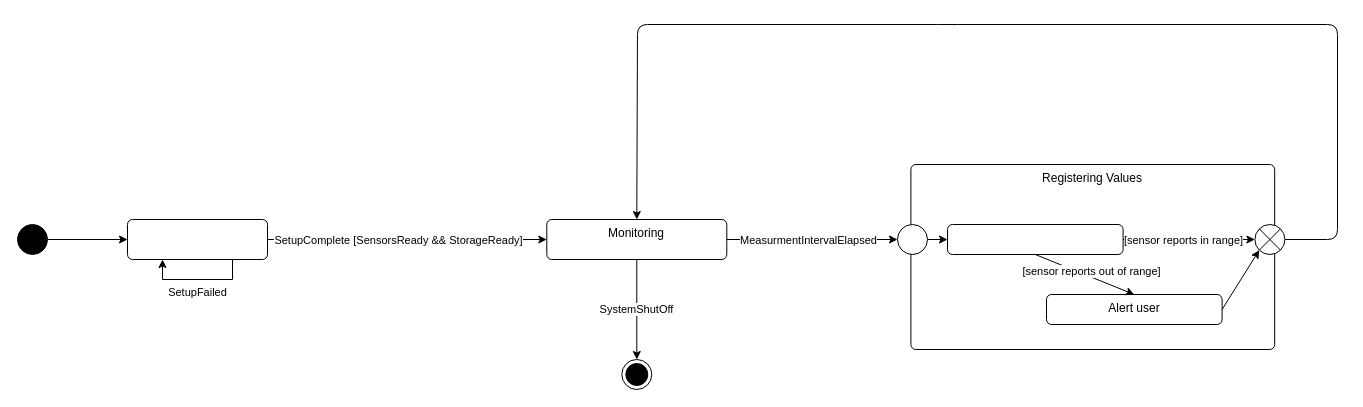
Image size: 1363x407. Some labels were removed from this diagram. The shapes that lost their labels are listed below. From the top down, each one's centre as x and y in pixels, then its label:
At (197,239): "Setup".
At (1034,239): "Store value".
